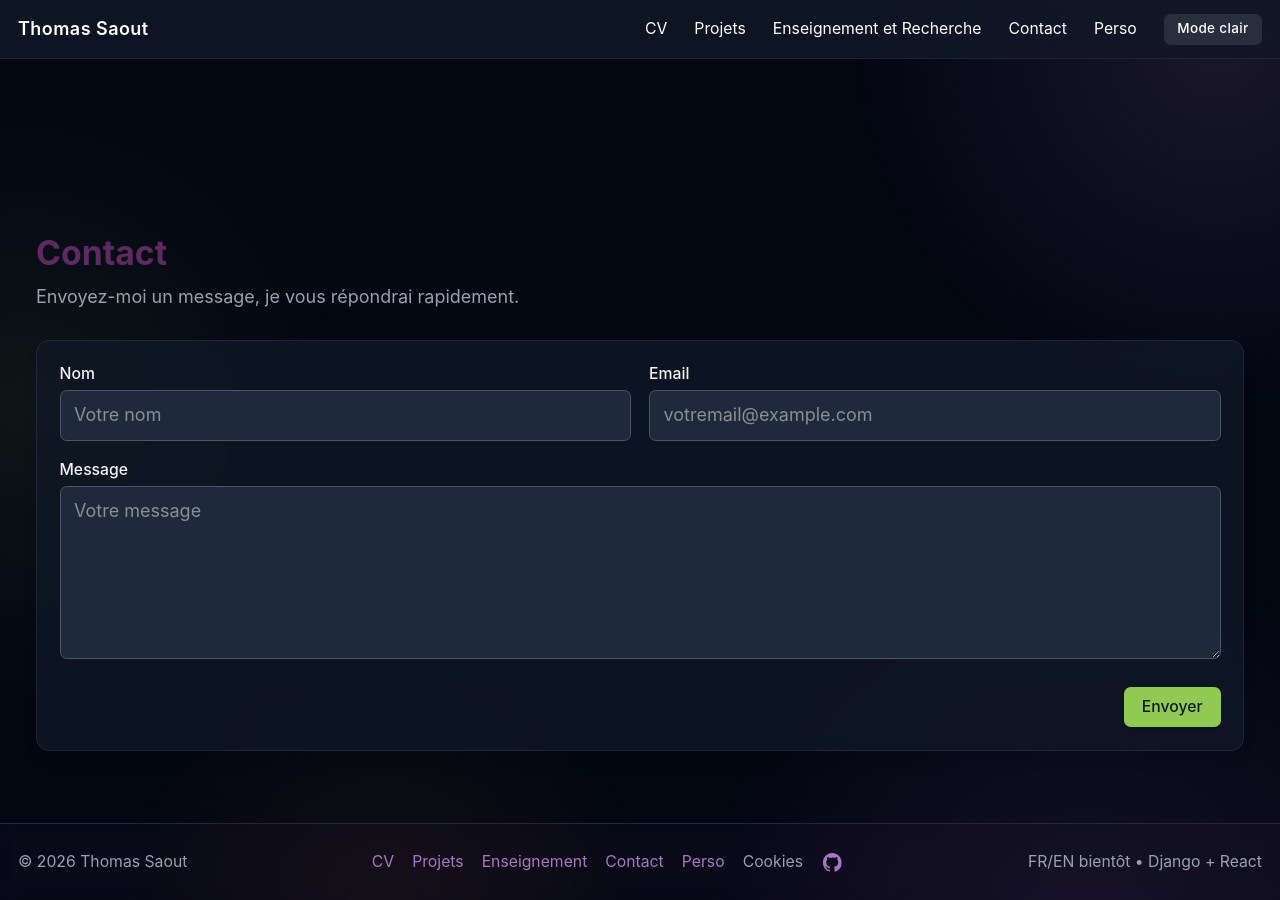
Test: SectionContact › shows validation error when fields are empty
(page scrolled)
Click the button "Envoyer" at (1172, 707), box x1=1124 y1=687 x2=1220 y2=727
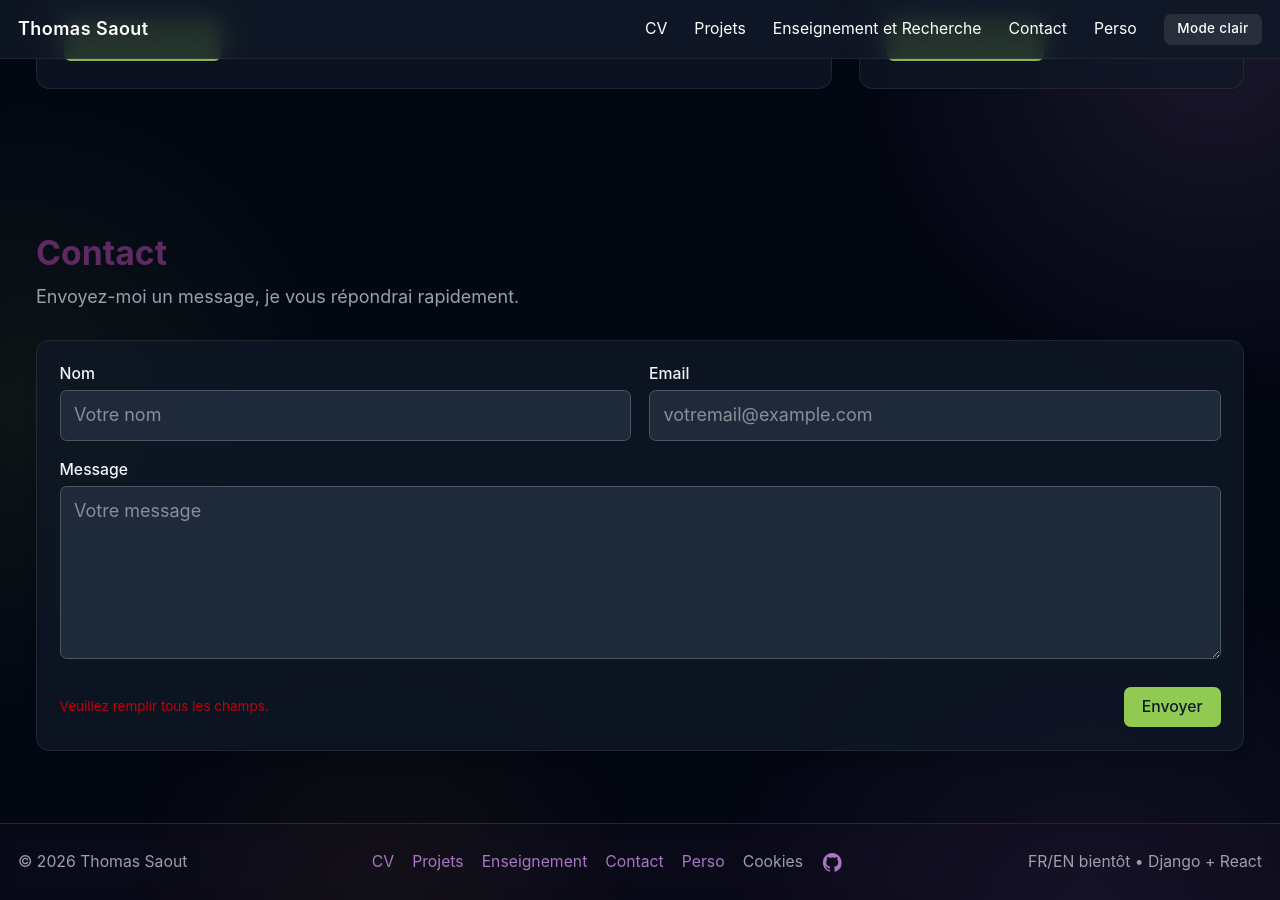
expect the text "Veuillez remplir tous les champs." is shown: met, box x1=60 y1=698 x2=269 y2=716
